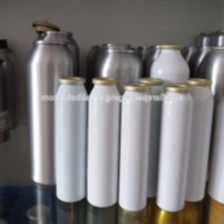aerosol_cans: (24, 37, 79, 188), (88, 44, 146, 183), (146, 40, 192, 184), (167, 75, 216, 204), (80, 74, 125, 210), (154, 80, 196, 213), (50, 74, 91, 206), (115, 79, 155, 213)
